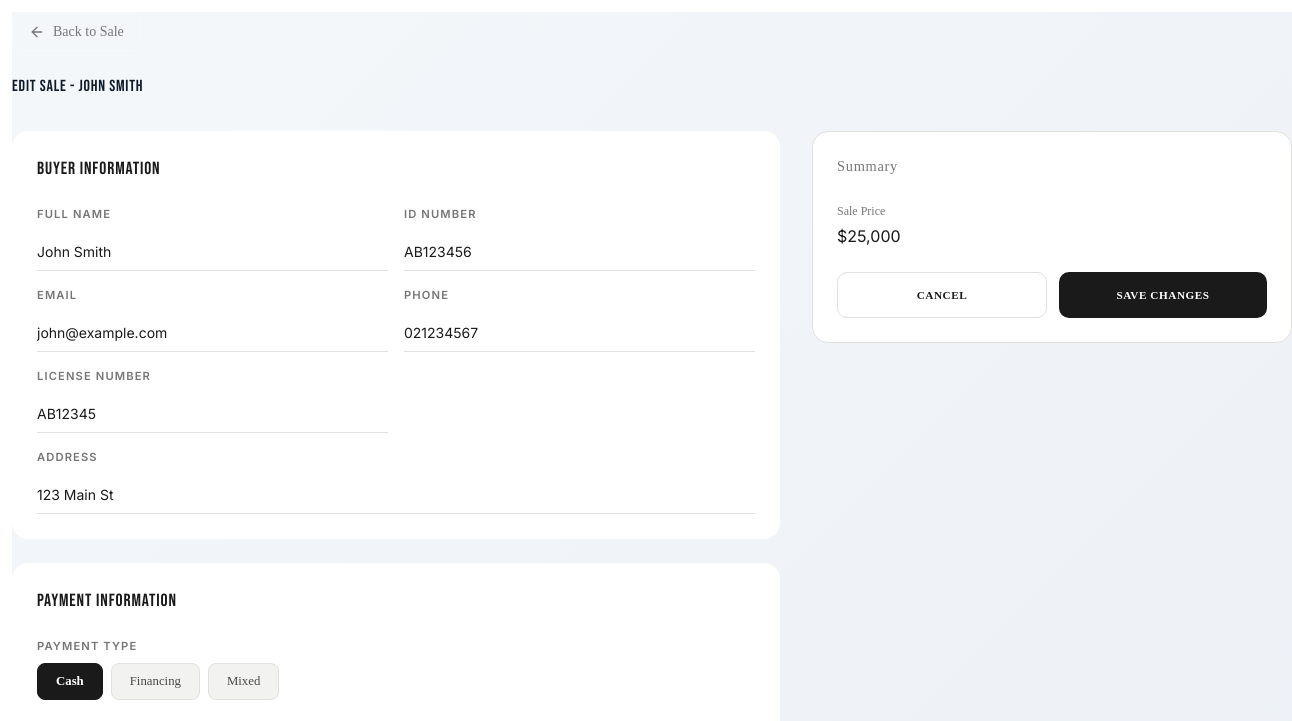
Test case: AdminEditSale › recalculates the Monthly Payment summary when switching from Cash to Financing
The image size is (1292, 721).
Expected: the text "Payment Type" is shown, [37,639,137,653]
Expected: the text "Monthly Payment" is not shown
Click the button "Financing".
click(155, 681)  # box [111,663,200,700]
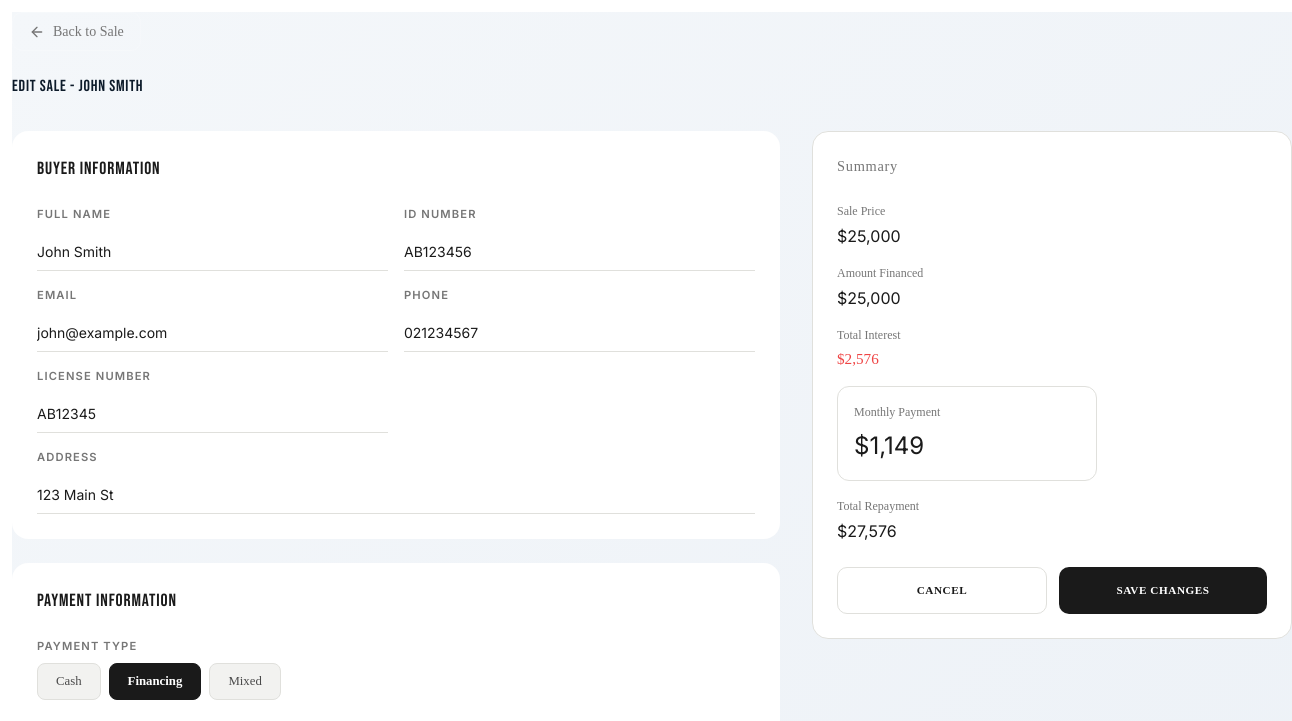
Expected: the text "Monthly Payment" is shown, [854,405,940,419]
